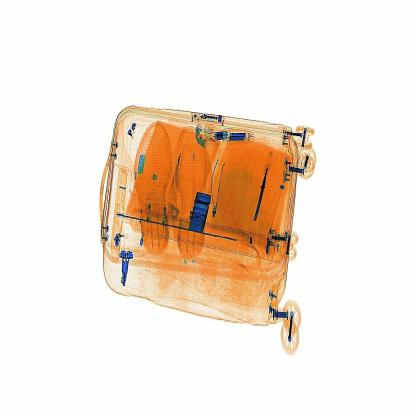gun: (254, 149, 274, 228)
